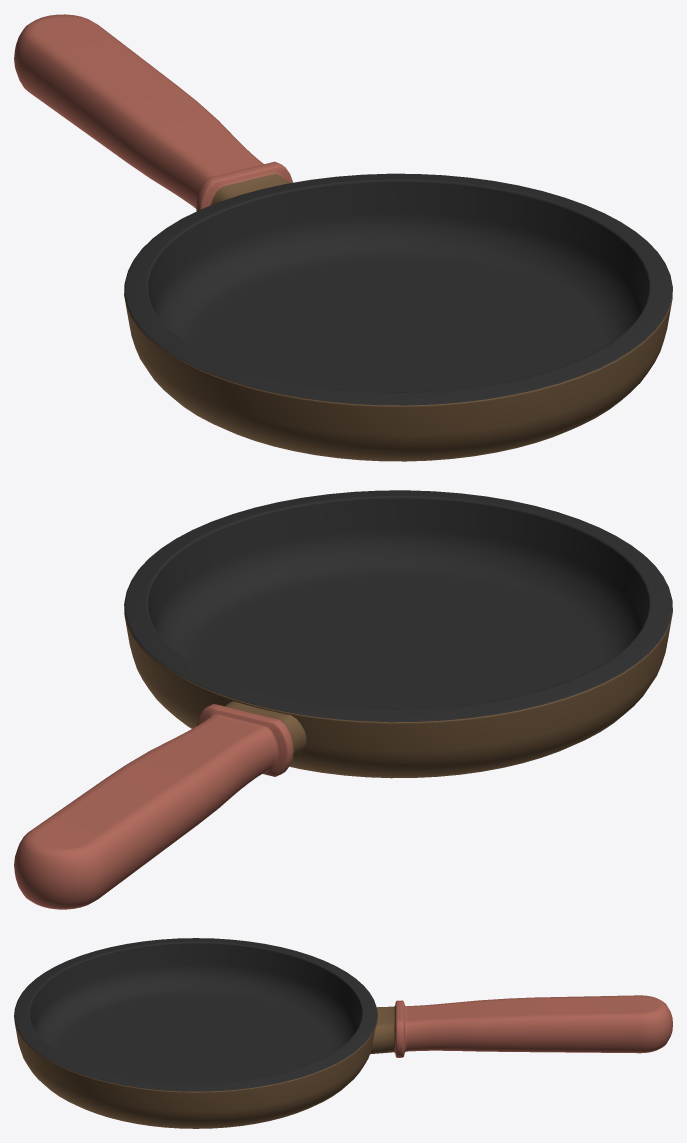
File: SM_Kitchen_Pan_01.fbx
3 views of the same model, one above another, from view 1: azimuth 30°, elevation 25°; view 2: azimuth 150°, elevation 25°; view 3: azimuth 270°, elevation 25° (orthographic). The views are drawn at different scales.
Parts seen in each view (by area): view 1: SM_Kitchen_Pan_01; view 2: SM_Kitchen_Pan_01; view 3: SM_Kitchen_Pan_01.
Part boxes in pixels (x1,y1,x2,y2): SM_Kitchen_Pan_01: (14,14,672,461); SM_Kitchen_Pan_01: (14,490,672,909); SM_Kitchen_Pan_01: (14,938,672,1128).
Size of what is drawn, in the model's own units: 44.3 by 8.31 by 80.22.
